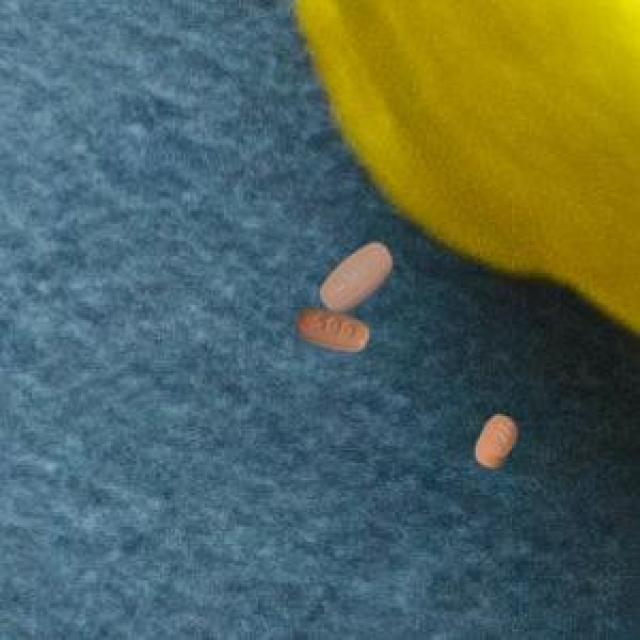Biogesic: (283, 227, 401, 363), (458, 393, 532, 479)
